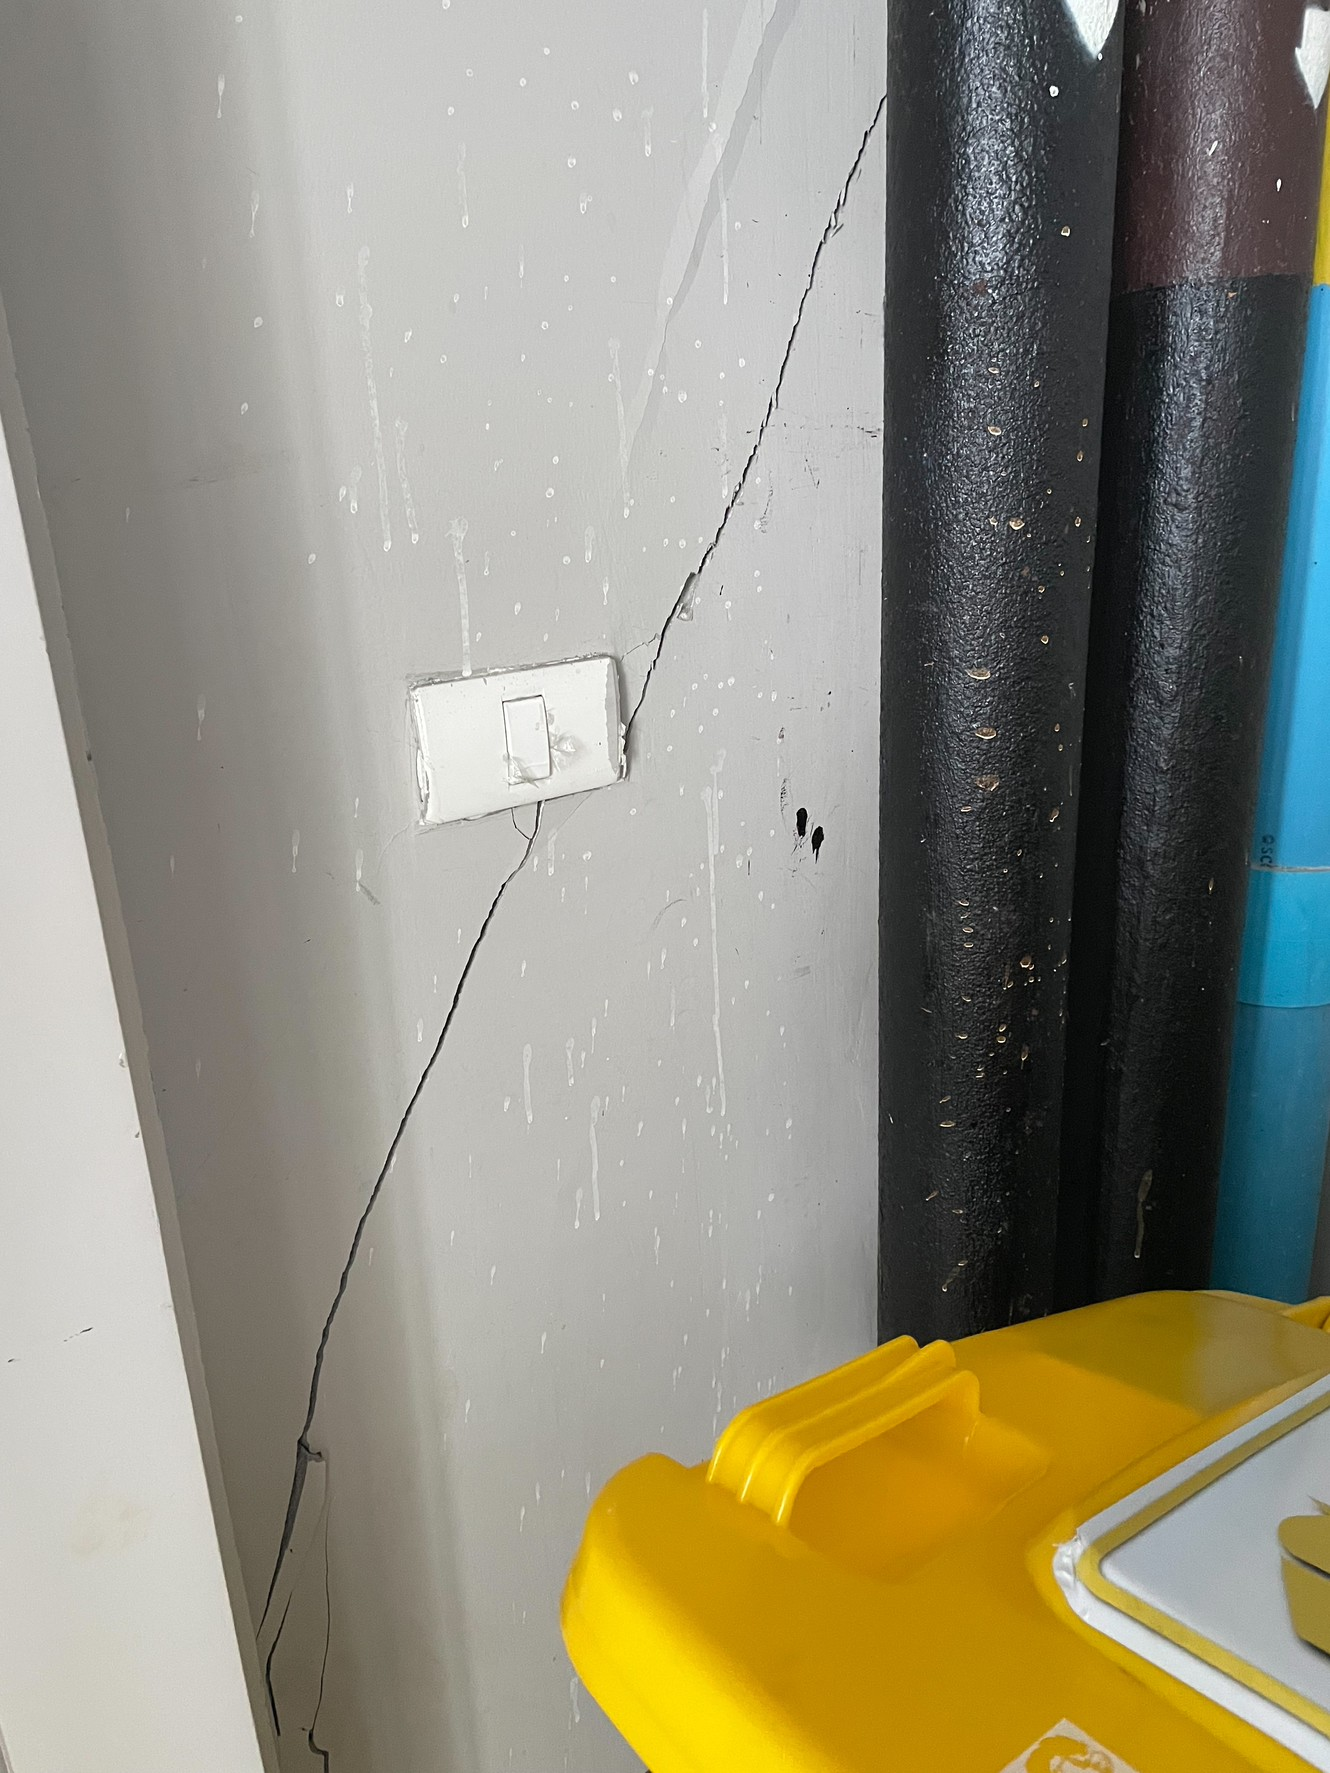Low: (231, 70, 890, 1735)
